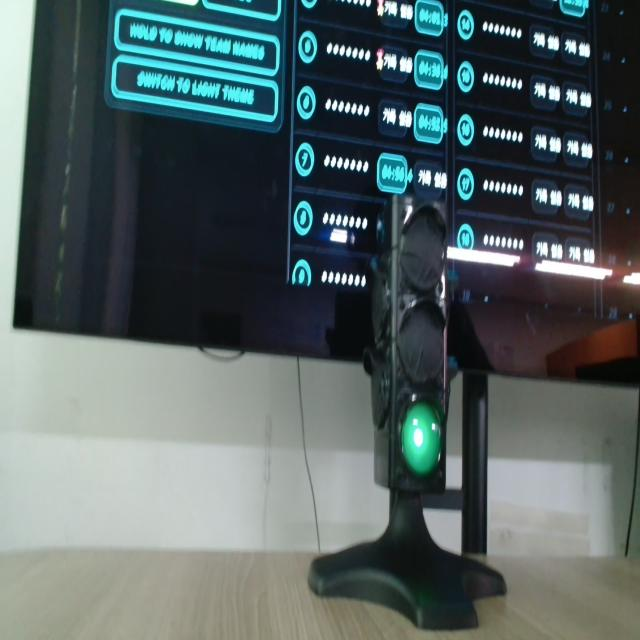green_light: (402, 403, 441, 476)
